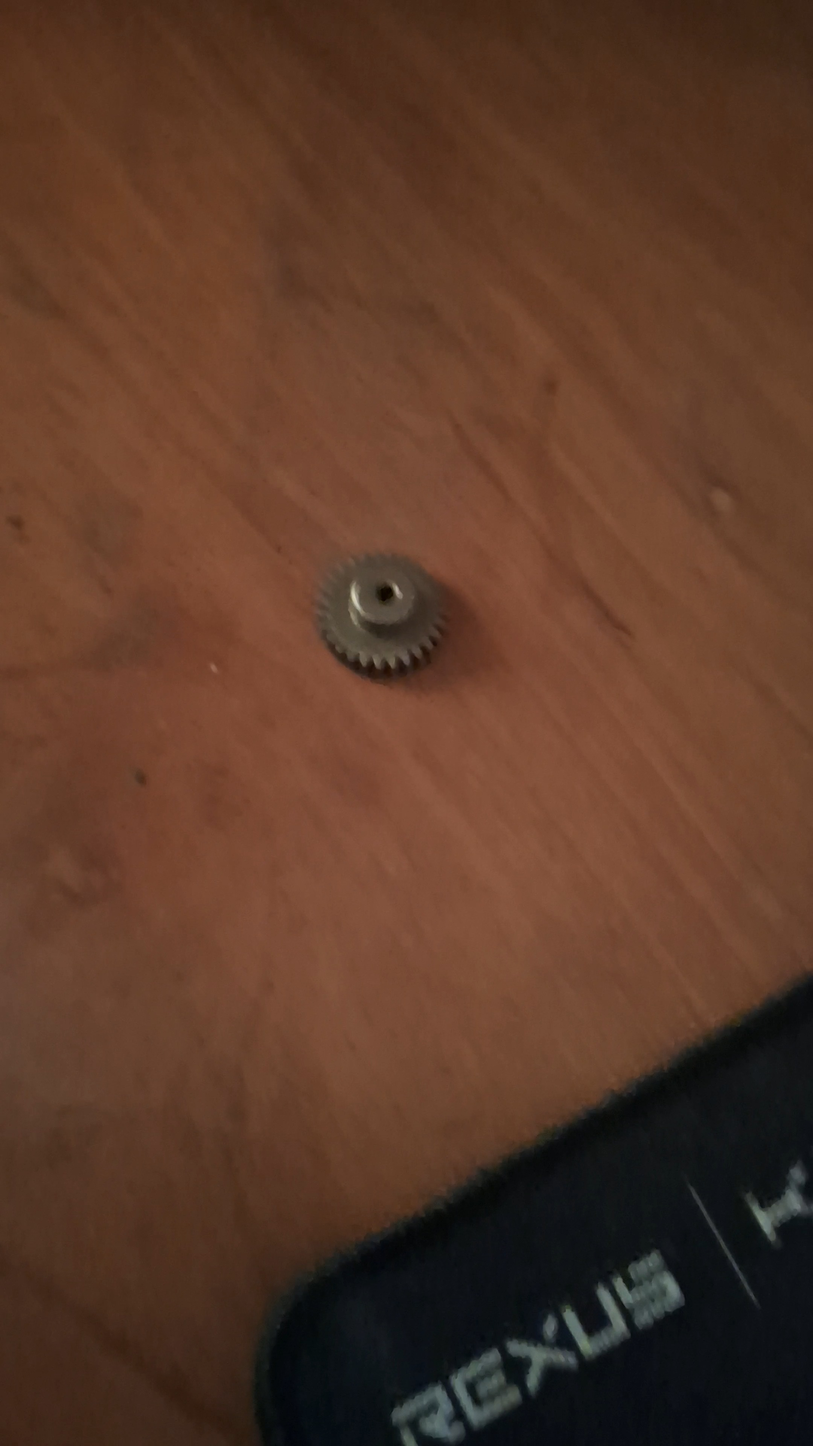spur gear: (317, 554, 443, 678)
